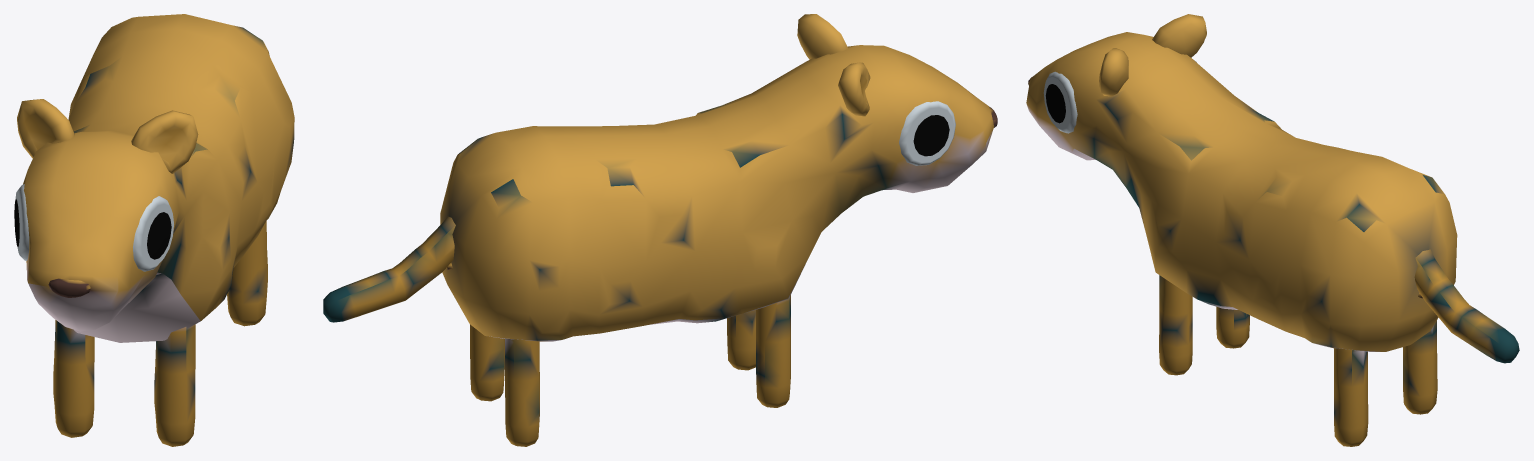
The model's file is Leopard.glb.
3 renders of one model, left to right at view 1: azimuth 30°, elevation 25°; view 2: azimuth 150°, elevation 25°; view 3: azimuth 270°, elevation 25°, orthographic. The views are drawn at different scales.
Parts seen in each view (by area): view 1: 90; view 2: 90; view 3: 90.
Boxes of the visible parts, x1,y1,x2,y2 form: 90: (14, 14, 294, 446); 90: (323, 14, 997, 446); 90: (1026, 14, 1519, 446).
Bounding box in the file's own units: 1.01 × 0.7555 × 1.1.
